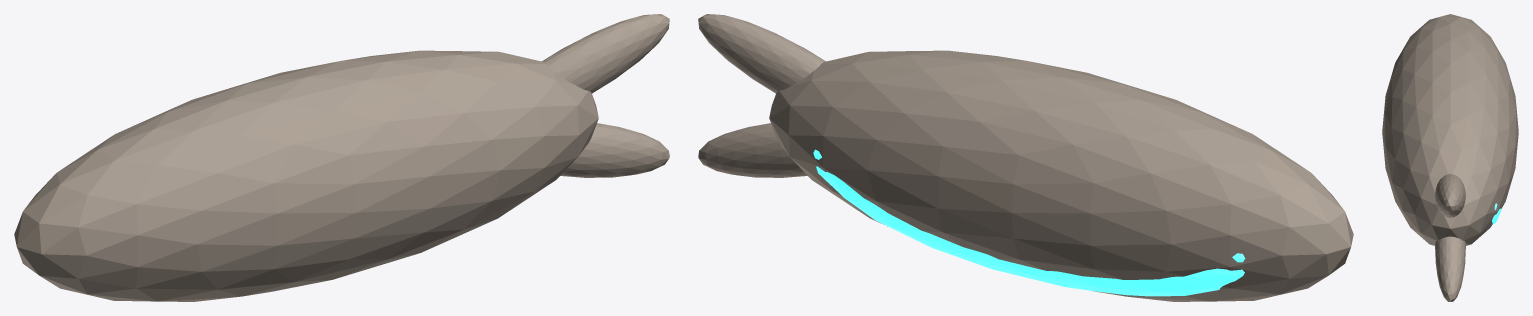
File: 14_Giant_Luminous_Whale.glb
3 renders of one model, left to right at view 1: azimuth 30°, elevation 25°; view 2: azimuth 150°, elevation 25°; view 3: azimuth 270°, elevation 25°, orthographic. The views are drawn at different scales.
Parts seen in each view (by area): view 1: 14_Giant_Luminous_Whale_00, 14_Giant_Luminous_Whale_03, 14_Giant_Luminous_Whale_02; view 2: 14_Giant_Luminous_Whale_00, 14_Giant_Luminous_Whale_01, 14_Giant_Luminous_Whale_03, 14_Giant_Luminous_Whale_02; view 3: 14_Giant_Luminous_Whale_00, 14_Giant_Luminous_Whale_02, 14_Giant_Luminous_Whale_03.
Part boxes in pixels (box(x1,y1,x2,y2)): 14_Giant_Luminous_Whale_00: box(14, 50, 598, 301); 14_Giant_Luminous_Whale_03: box(542, 14, 669, 93); 14_Giant_Luminous_Whale_02: box(560, 123, 669, 177); 14_Giant_Luminous_Whale_00: box(769, 50, 1353, 301); 14_Giant_Luminous_Whale_01: box(813, 149, 1245, 296); 14_Giant_Luminous_Whale_03: box(698, 14, 825, 93); 14_Giant_Luminous_Whale_02: box(698, 123, 807, 177); 14_Giant_Luminous_Whale_00: box(1382, 14, 1518, 245); 14_Giant_Luminous_Whale_02: box(1435, 236, 1465, 301); 14_Giant_Luminous_Whale_03: box(1435, 174, 1465, 217).
Size of the model in its own units: 11.72 by 3.4 by 3.1.
